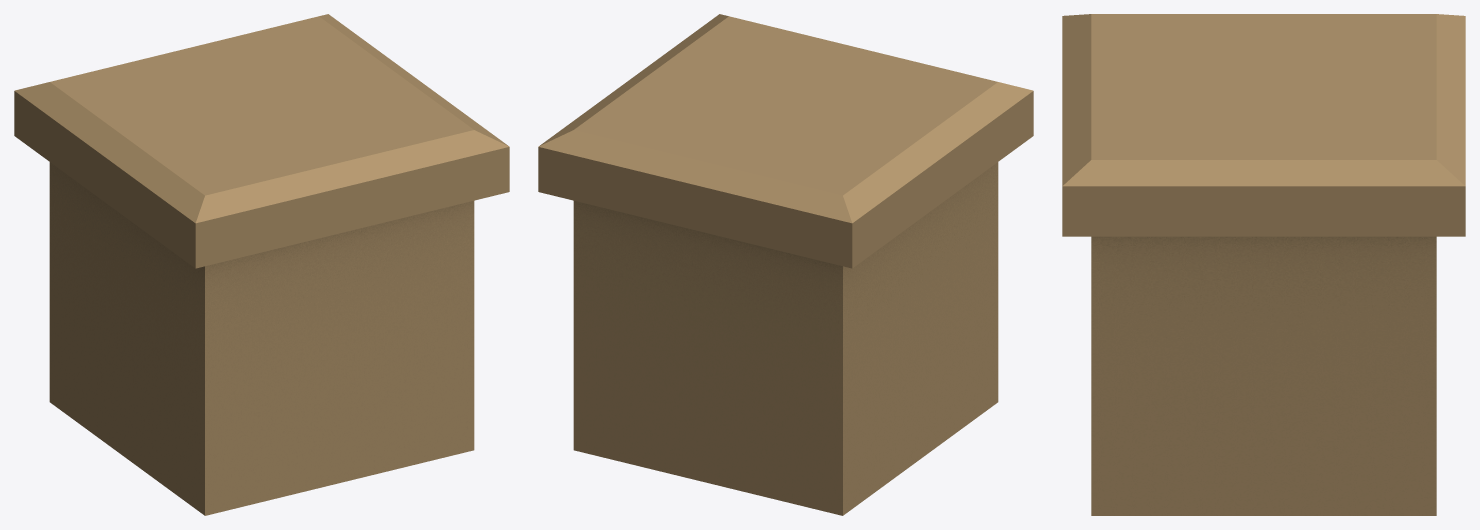
The model's file is SingluarCounterTop.fbx.
3 renders of one model, left to right at view 1: azimuth 30°, elevation 25°; view 2: azimuth 150°, elevation 25°; view 3: azimuth 270°, elevation 25°, orthographic. The views are drawn at different scales.
Parts seen in each view (by area): view 1: Cube.005; view 2: Cube.005; view 3: Cube.005.
Part boxes in pixels (box(x1,y1,x2,y2)): Cube.005: box(14, 14, 509, 515); Cube.005: box(538, 14, 1033, 515); Cube.005: box(1062, 14, 1465, 515).
Bounding box in the file's own units: 234 × 227 × 234.
